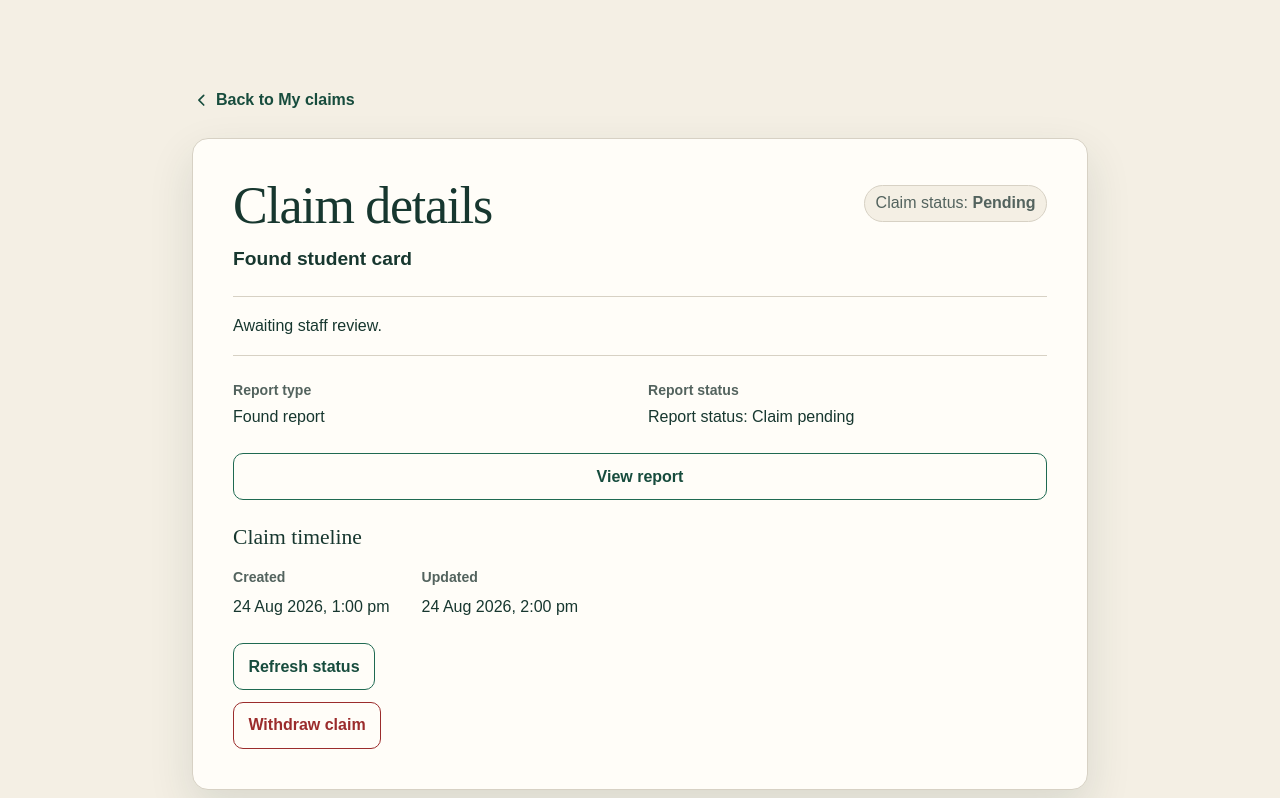
ClaimDetailClient withdrawal › keeps safe detail and asks for refresh after a state conflict
The width and height of the screenshot is (1280, 798).
Click the button "Withdraw claim" at (307, 725), box [233,702,381,749]
(page scrolled)
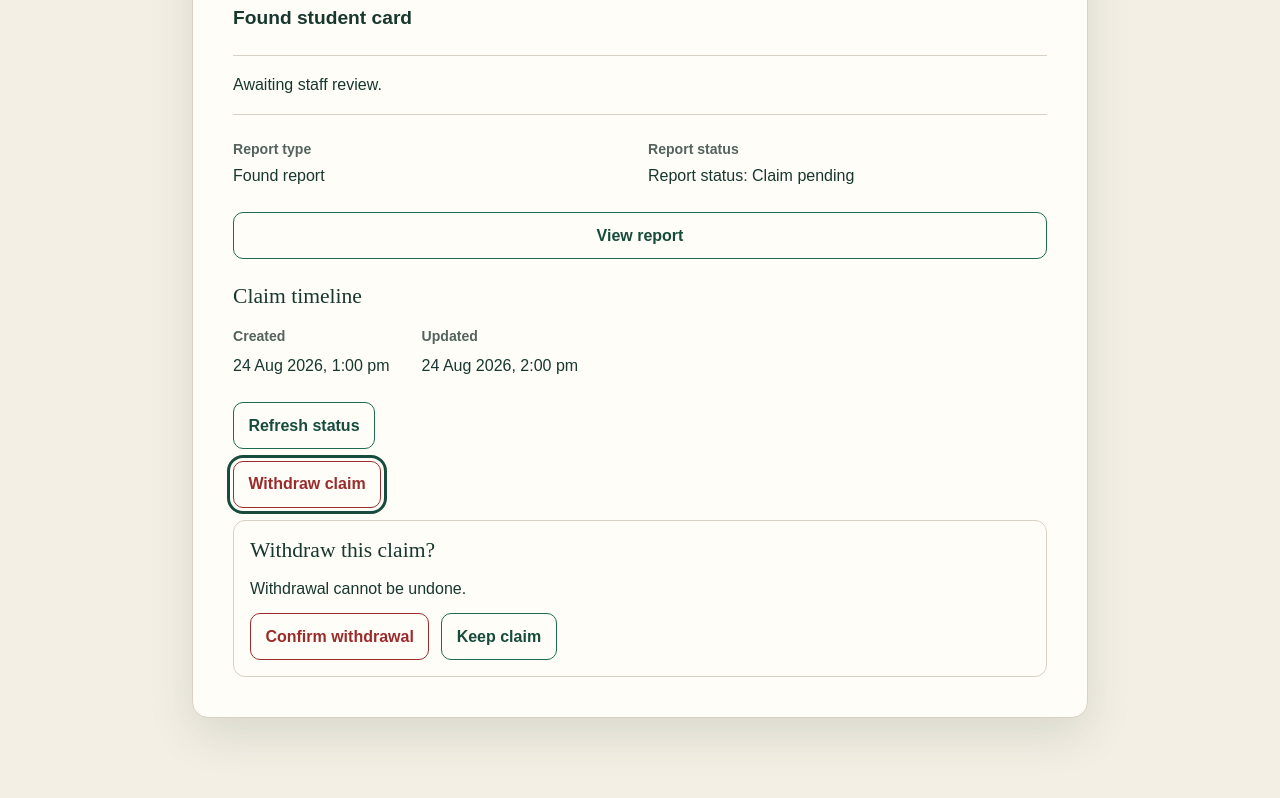
Click the button "Confirm withdrawal" at (340, 637), box [250,613,429,660]
(page scrolled)
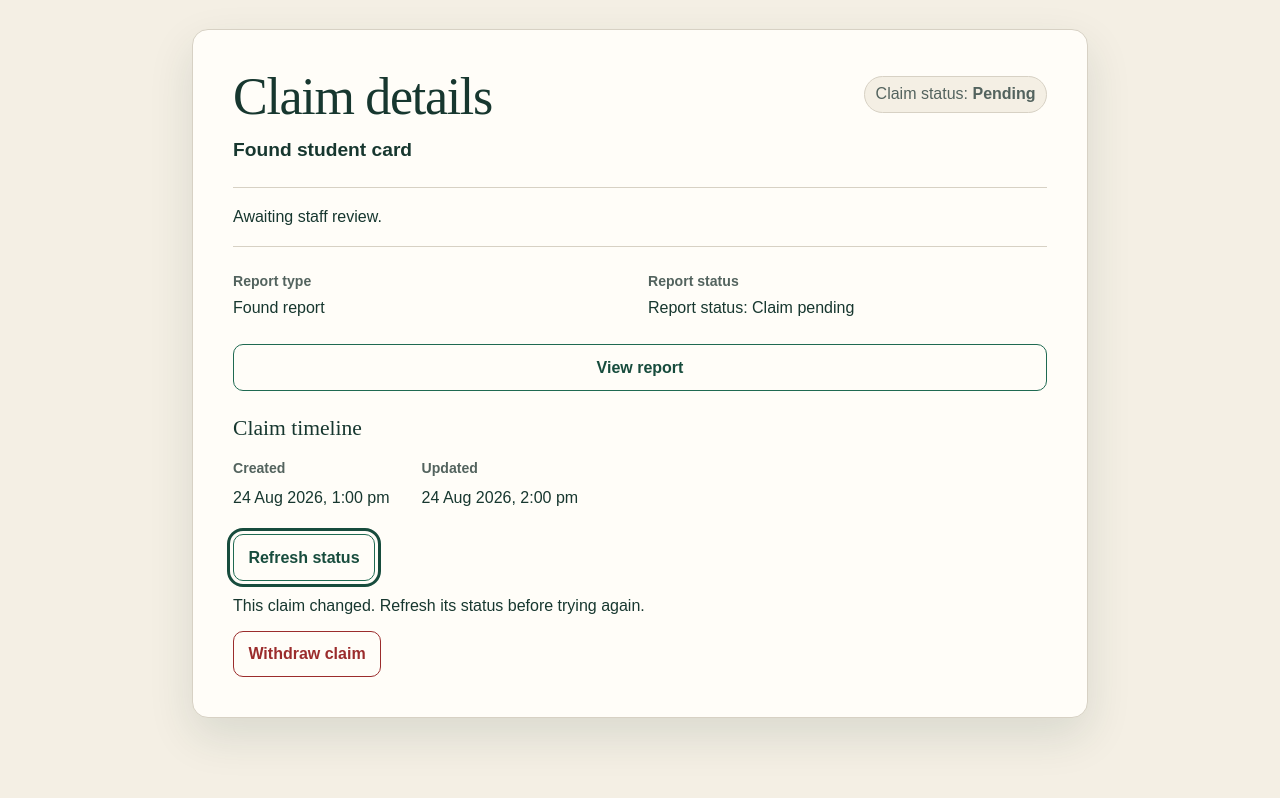
Expected: the text "Found student card" is shown, [233,139,412,160]
Expected: the message "This claim changed. Refresh its status before trying again." is shown, [233,597,645,614]
Expected: the heading "Withdraw this claim?" is gone
